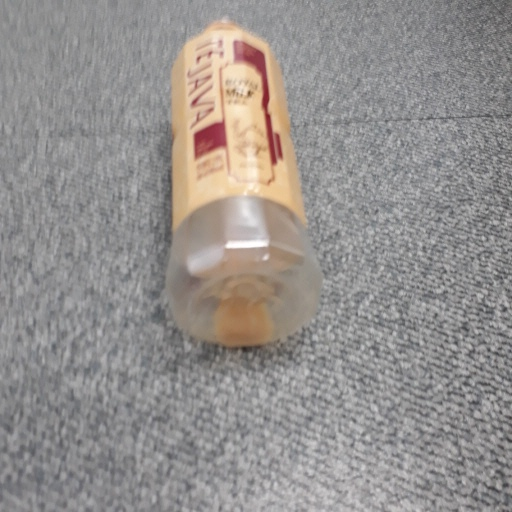Plastic_0: (157, 13, 325, 347)
